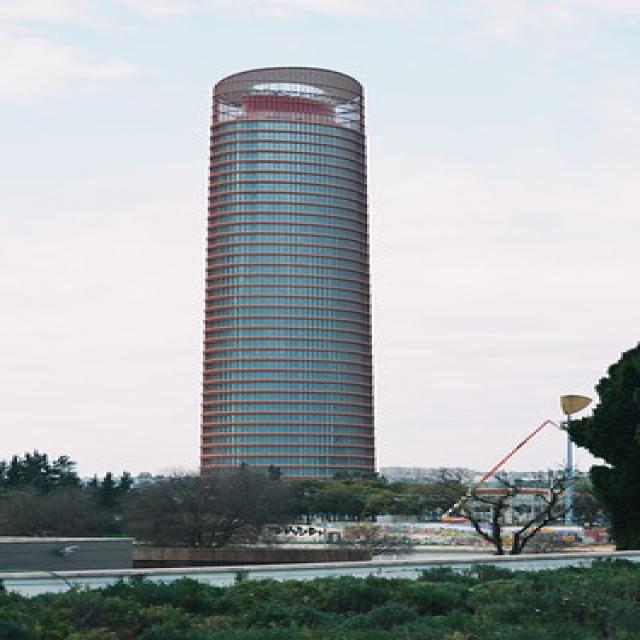Normal_building: (198, 64, 389, 531)
